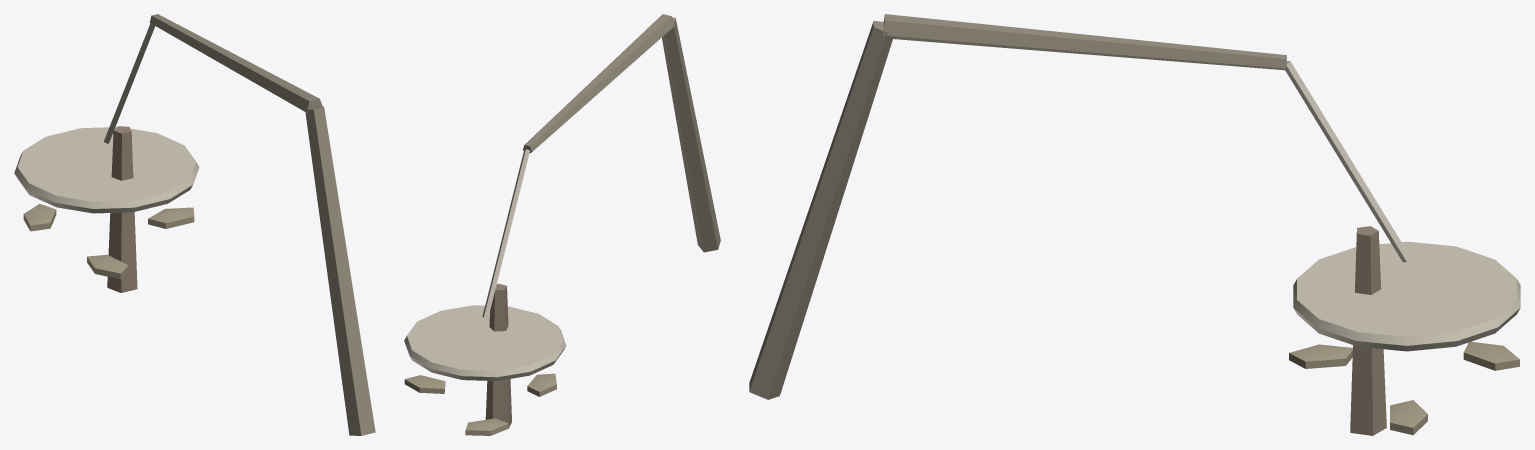
Rendered from snare.gltf.
3 views of the same model, side by side, from view 1: azimuth 30°, elevation 25°; view 2: azimuth 150°, elevation 25°; view 3: azimuth 270°, elevation 25° (orthographic). The views are drawn at different scales.
Visible parts, largest first — view 1: Body; view 2: Body; view 3: Body.
Part boxes in pixels (x1,y1,x2,y2): Body: (14,14,375,435); Body: (404,14,720,435); Body: (749,14,1520,435).
Size of the model in its own units: 0.3062 by 0.5629 by 0.9584.
